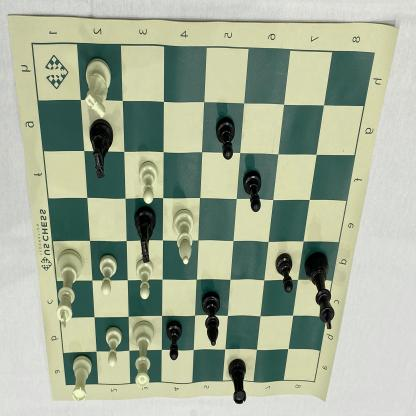black-bishop: (198, 287, 226, 352)
black-king: (302, 247, 337, 337)
black-knight: (86, 117, 116, 184), (131, 202, 160, 265)
black-pawn: (214, 114, 239, 167), (241, 166, 265, 216), (162, 316, 186, 365), (272, 250, 295, 298)
black-rook: (225, 352, 249, 408)
white-bishop: (170, 206, 196, 272)
white-king: (51, 247, 86, 331)
white-knight: (81, 58, 113, 122)
white-pawn: (133, 156, 161, 208), (96, 251, 121, 301), (103, 324, 126, 369), (135, 257, 156, 304)
white-queen: (130, 317, 158, 392)
white-rook: (68, 352, 96, 406)
